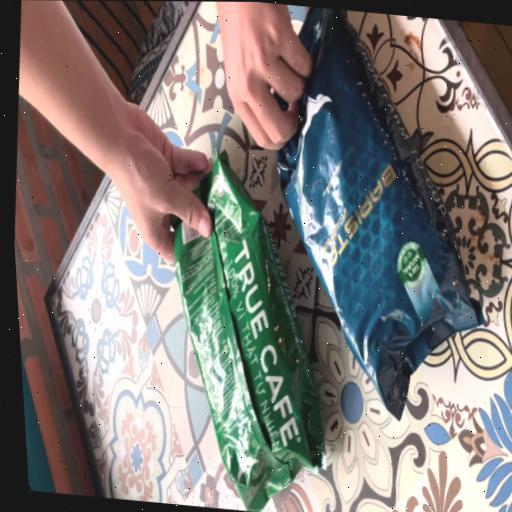cafe_hat: (276, 6, 483, 418)
cafe_xay: (173, 151, 325, 512)
